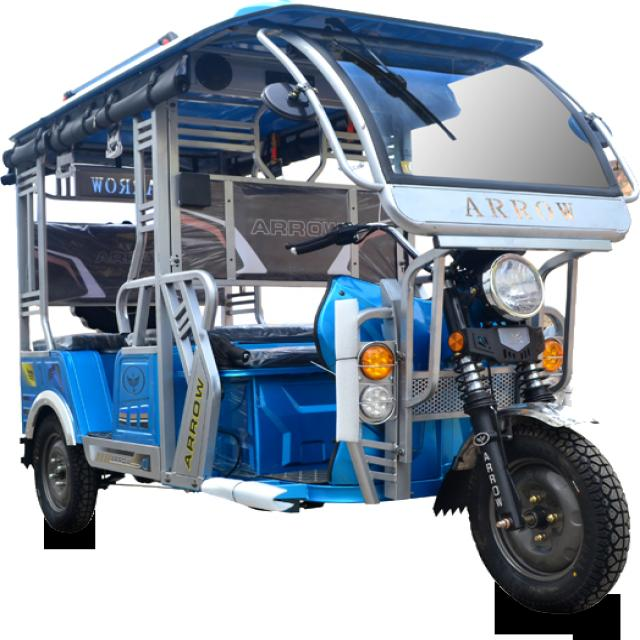Toto: (2, 0, 640, 624)
